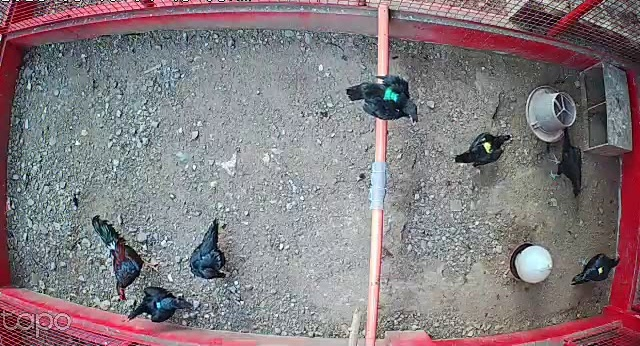Chicken: (344, 67, 420, 129), (545, 120, 594, 204), (185, 218, 244, 281), (126, 283, 195, 328), (455, 123, 518, 169), (569, 249, 624, 287)
Rooster: (90, 213, 162, 303)
Saddle_Color_Blue: (156, 300, 160, 308)
Saddle_Color_Yellow: (481, 136, 493, 156)
